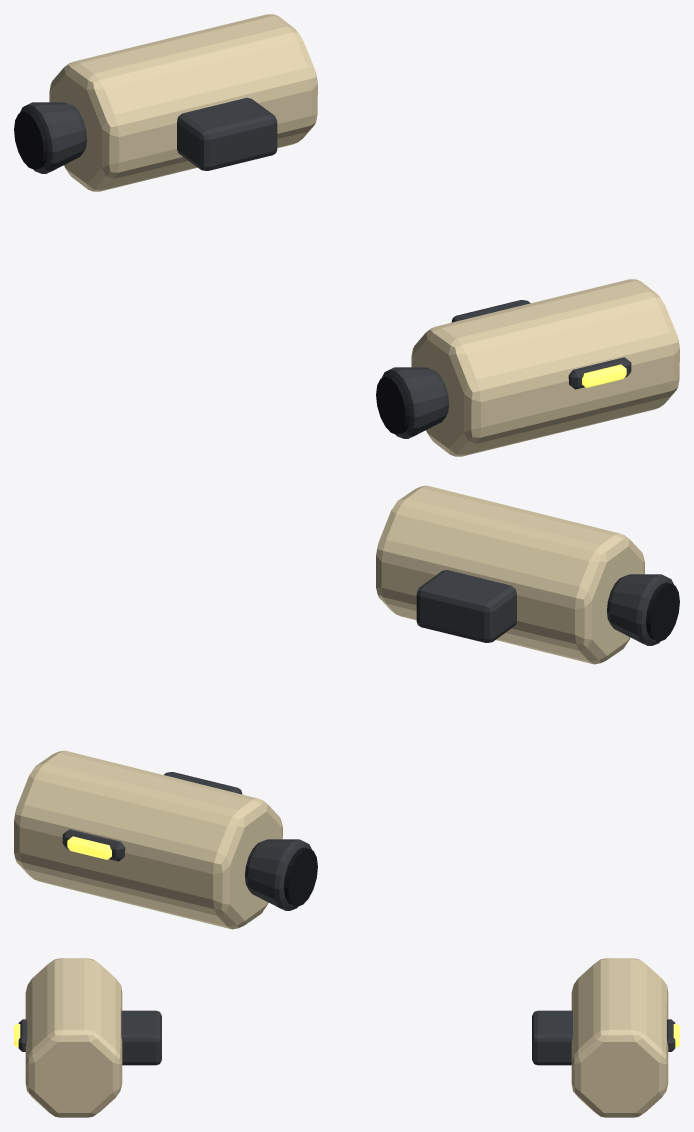
Rendered from maneuver-mk1.glb.
The picture shows the model from 3 angles, top to bottom: view 1: azimuth 30°, elevation 25°; view 2: azimuth 150°, elevation 25°; view 3: azimuth 270°, elevation 25°; orthographic projection. The views are drawn at different scales.
Visible parts, largest first — view 1: maneuver_mk1 body; view 2: maneuver_mk1 body; view 3: maneuver_mk1 body.
Boxes of the visible parts, x1,y1,x2,y2 form: maneuver_mk1 body: [14, 14, 679, 456]; maneuver_mk1 body: [14, 485, 679, 929]; maneuver_mk1 body: [14, 958, 679, 1117].
Bounding box in the file's own units: 1.22 × 0.5174 × 3.56.
